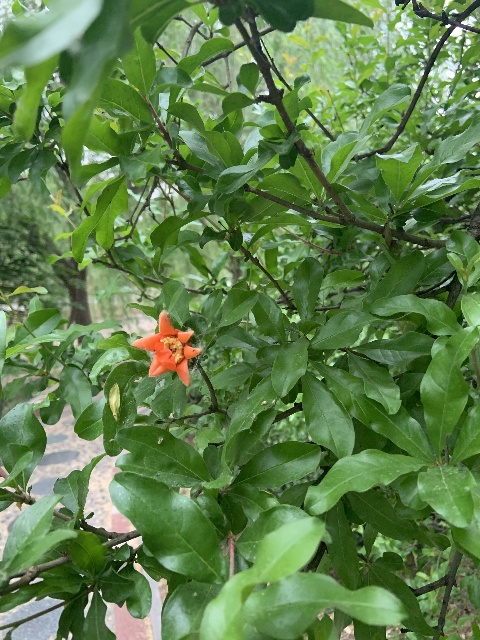flower: (131, 309, 201, 386)
